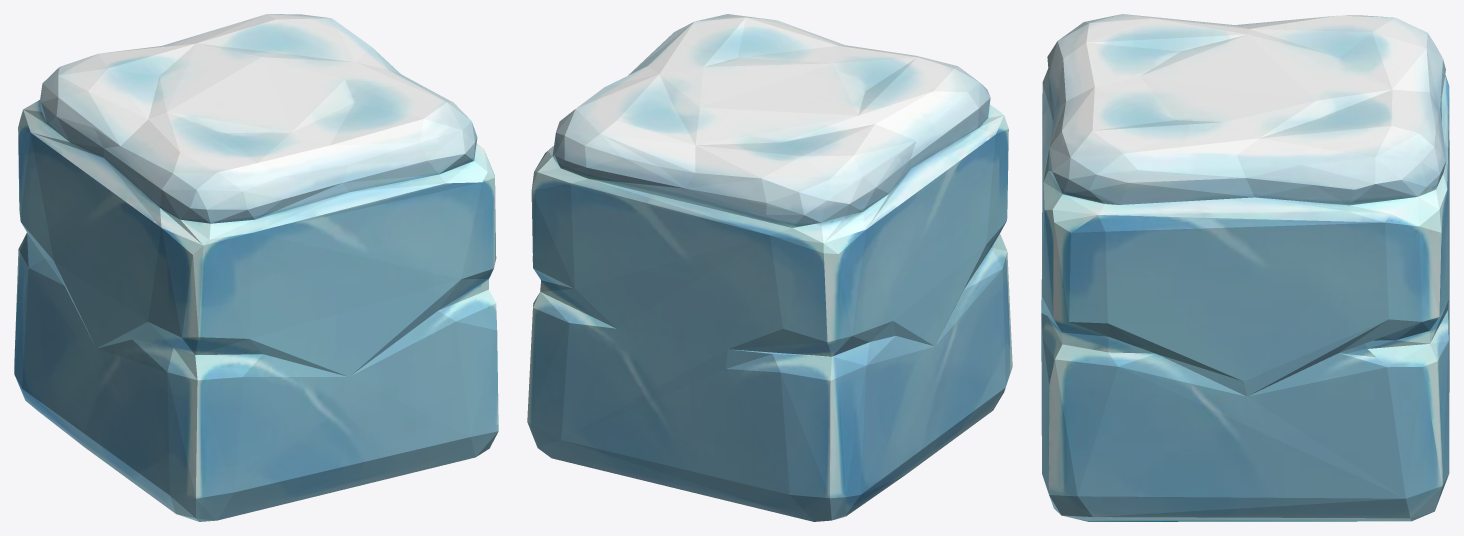
The model's file is wall_ice.glb.
3 views of the same model, side by side, from view 1: azimuth 30°, elevation 25°; view 2: azimuth 150°, elevation 25°; view 3: azimuth 270°, elevation 25° (orthographic). The views are drawn at different scales.
Visible parts, largest first — view 1: tmp01mxtafw.ply; view 2: tmp01mxtafw.ply; view 3: tmp01mxtafw.ply.
Boxes of the visible parts, bbox=[...] form: tmp01mxtafw.ply: bbox=[14, 14, 498, 521]; tmp01mxtafw.ply: bbox=[527, 14, 1012, 521]; tmp01mxtafw.ply: bbox=[1041, 14, 1449, 521].
Bounding box in the file's own units: 1.98 × 1.99 × 1.99.
1 material, 1 textured.
